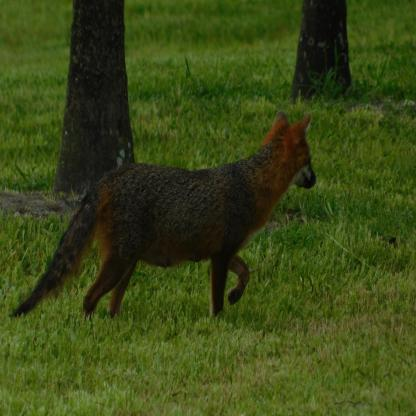zorro: (10, 107, 324, 337)
